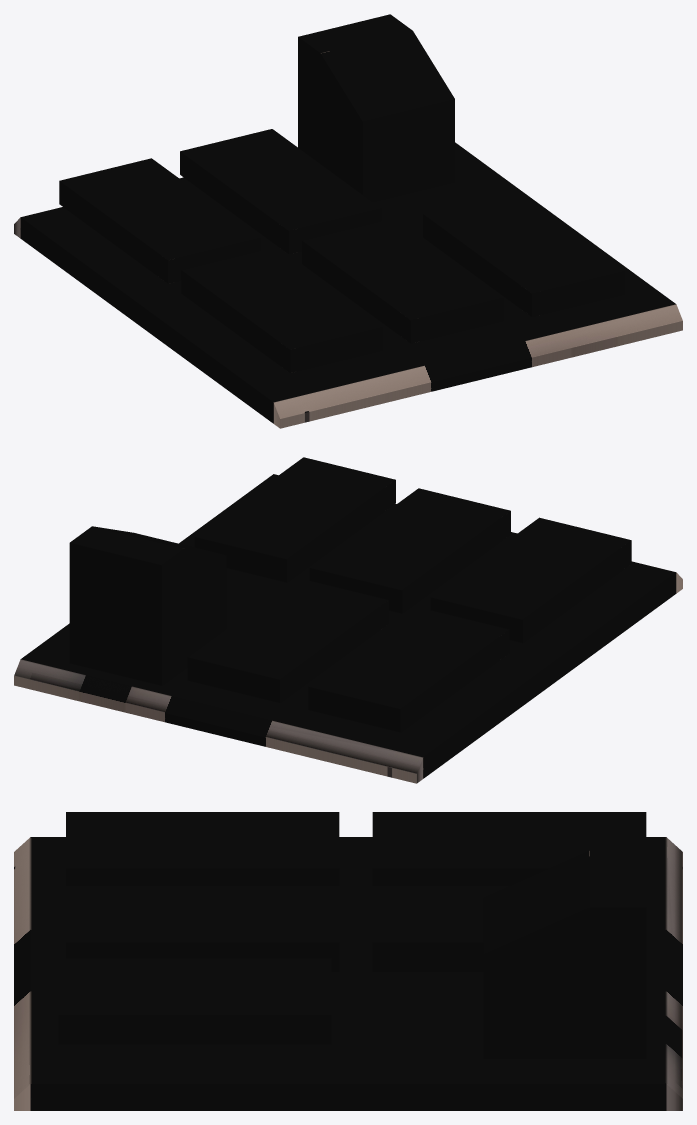
Rendered from FullScene.glb.
3 views of the same model, one above another, from view 1: azimuth 30°, elevation 25°; view 2: azimuth 150°, elevation 25°; view 3: azimuth 270°, elevation 25° (orthographic). The views are drawn at different scales.
Parts seen in each view (by area): view 1: processing-plant_Baked; view 2: processing-plant_Baked; view 3: processing-plant_Baked.
Part boxes in pixels (left/top/right/bottom): processing-plant_Baked: left=14, top=14, right=682, bottom=428; processing-plant_Baked: left=14, top=457, right=682, bottom=783; processing-plant_Baked: left=14, top=812, right=682, bottom=1110.
Bounding box in the file's own units: 8.72 × 2.94 × 9.98.
1 material, 1 textured.
